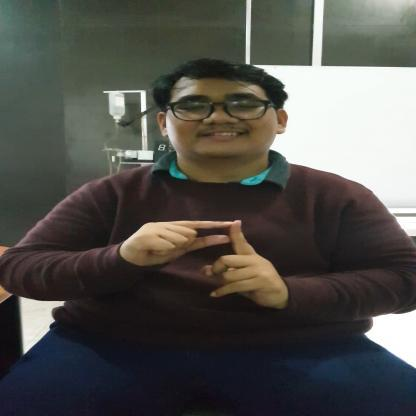P: (123, 218, 286, 311)
